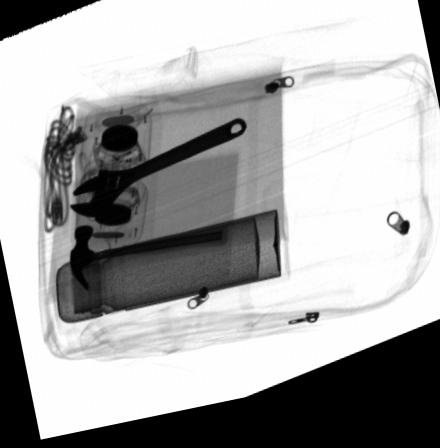Hammer: (69, 228, 227, 293)
Wrench: (68, 127, 246, 220)
